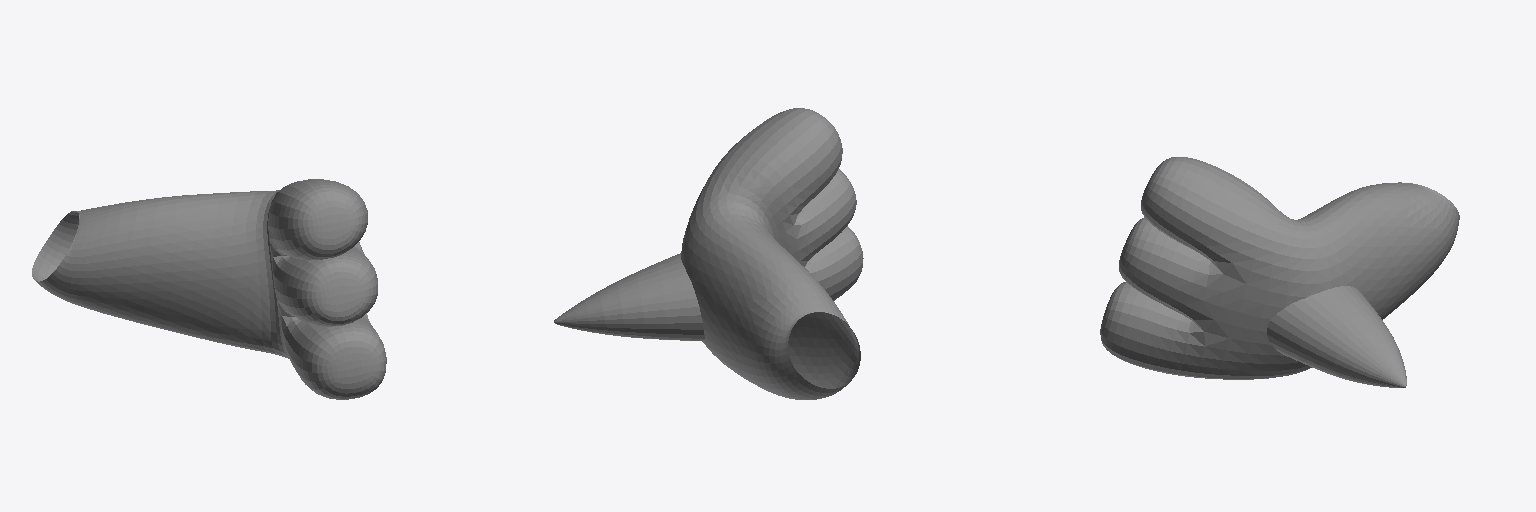
Rendered from brazoIzq.obj.
3 views of the same model, side by side, from view 1: azimuth 30°, elevation 25°; view 2: azimuth 150°, elevation 25°; view 3: azimuth 270°, elevation 25° (orthographic).
Visible parts, largest first — view 1: brazoIzq; view 2: brazoIzq; view 3: brazoIzq.
Part boxes in pixels (x1,y1,x2,y2): brazoIzq: (32, 179, 386, 399); brazoIzq: (554, 108, 863, 399); brazoIzq: (1100, 157, 1459, 387).
Size of the model in its own units: 1.81 by 1.17 by 1.86.